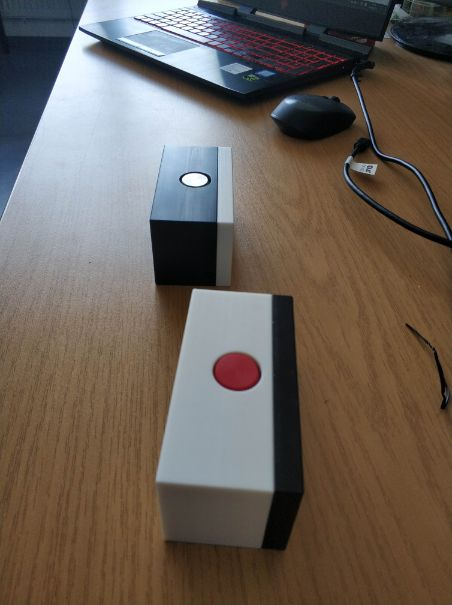black+white+red: (149, 286, 310, 558)
white+black+silver: (146, 142, 240, 288)
